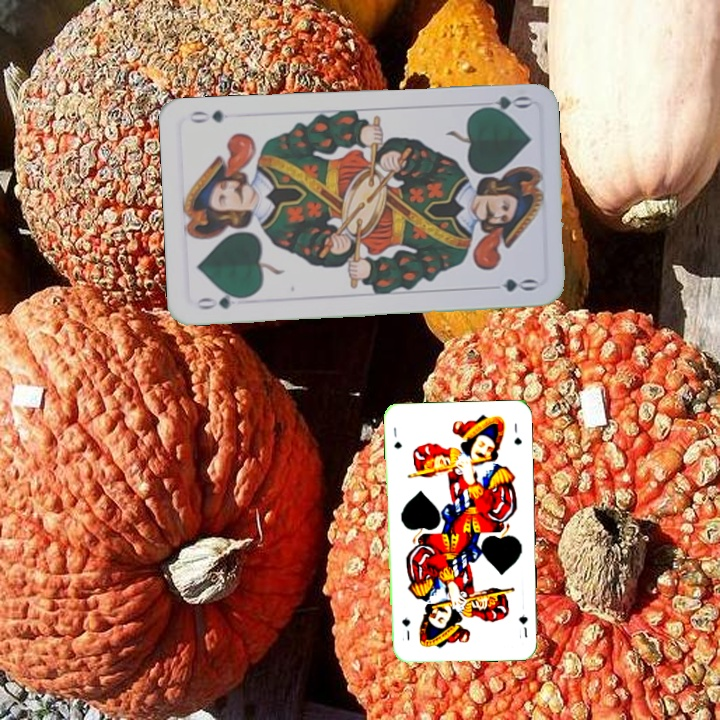GO: (473, 92, 532, 117), (192, 289, 251, 312)
GU: (515, 610, 530, 641), (389, 423, 404, 451)
